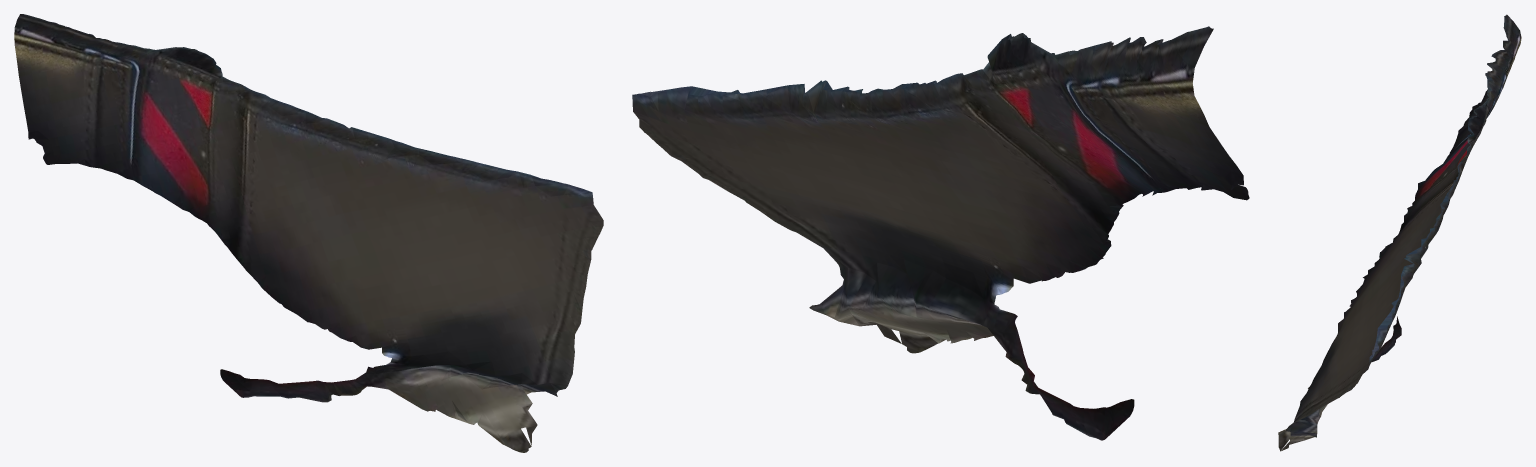
File: observed-surface.glb
3 renders of one model, left to right at view 1: azimuth 30°, elevation 25°; view 2: azimuth 150°, elevation 25°; view 3: azimuth 270°, elevation 25°, orthographic. The views are drawn at different scales.
Visible parts, largest first — view 1: geometry_0; view 2: geometry_0; view 3: geometry_0.
Part boxes in pixels (x1,y1,x2,y2): geometry_0: (14,14,603,452); geometry_0: (632,26,1249,440); geometry_0: (1278,14,1521,451).
Size of the model in its own units: 0.5769 by 0.4661 by 0.332.
Materials: 1 (1 with a texture image).
